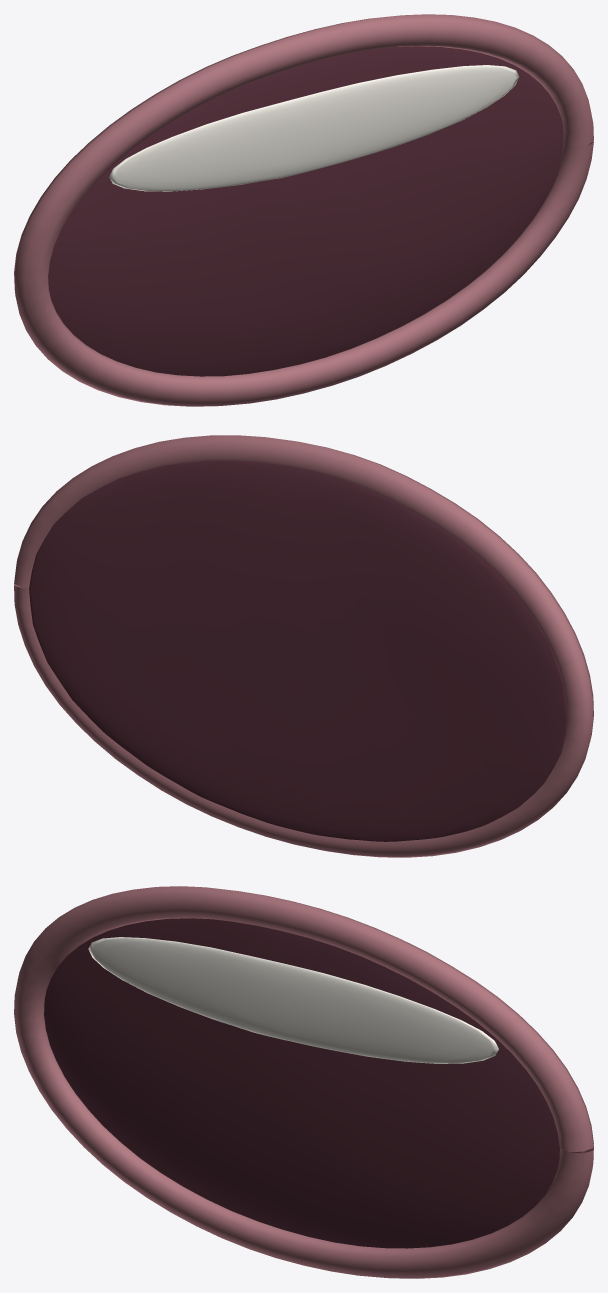
The picture shows the model from 3 angles, top to bottom: view 1: azimuth 30°, elevation 25°; view 2: azimuth 150°, elevation 25°; view 3: azimuth 330°, elevation 25°; orthographic projection.
Visible parts, largest first — view 1: Mouth_Inside, Mouth_Lip, Mouth_Teeth; view 2: Mouth_Inside, Mouth_Lip; view 3: Mouth_Inside, Mouth_Lip, Mouth_Teeth.
Part boxes in pixels (x1,y1,x2,y2): Mouth_Inside: (48,46,563,376); Mouth_Lip: (14,14,593,406); Mouth_Teeth: (109,65,519,191); Mouth_Inside: (29,460,567,841); Mouth_Lip: (14,435,593,857); Mouth_Inside: (44,918,581,1248); Mouth_Lip: (14,886,593,1278); Mouth_Teeth: (88,937,498,1063).
Size of the model in its own units: 0.076 by 0.048 by 0.00818.
